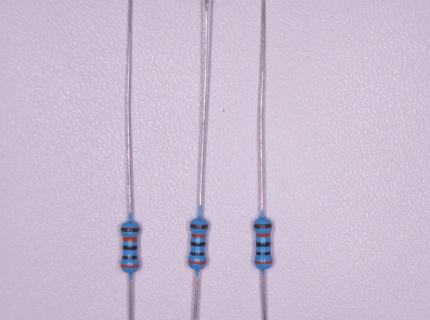Black band: (122, 245, 137, 250), (190, 242, 205, 247), (256, 242, 271, 247), (122, 256, 137, 260), (190, 252, 205, 256), (256, 252, 271, 256)
Brown band: (254, 223, 272, 229), (190, 224, 208, 229), (121, 228, 140, 232)
Orange band: (188, 260, 207, 265), (255, 260, 273, 265), (121, 263, 139, 268), (123, 237, 137, 242), (256, 233, 271, 237), (191, 234, 205, 238)
